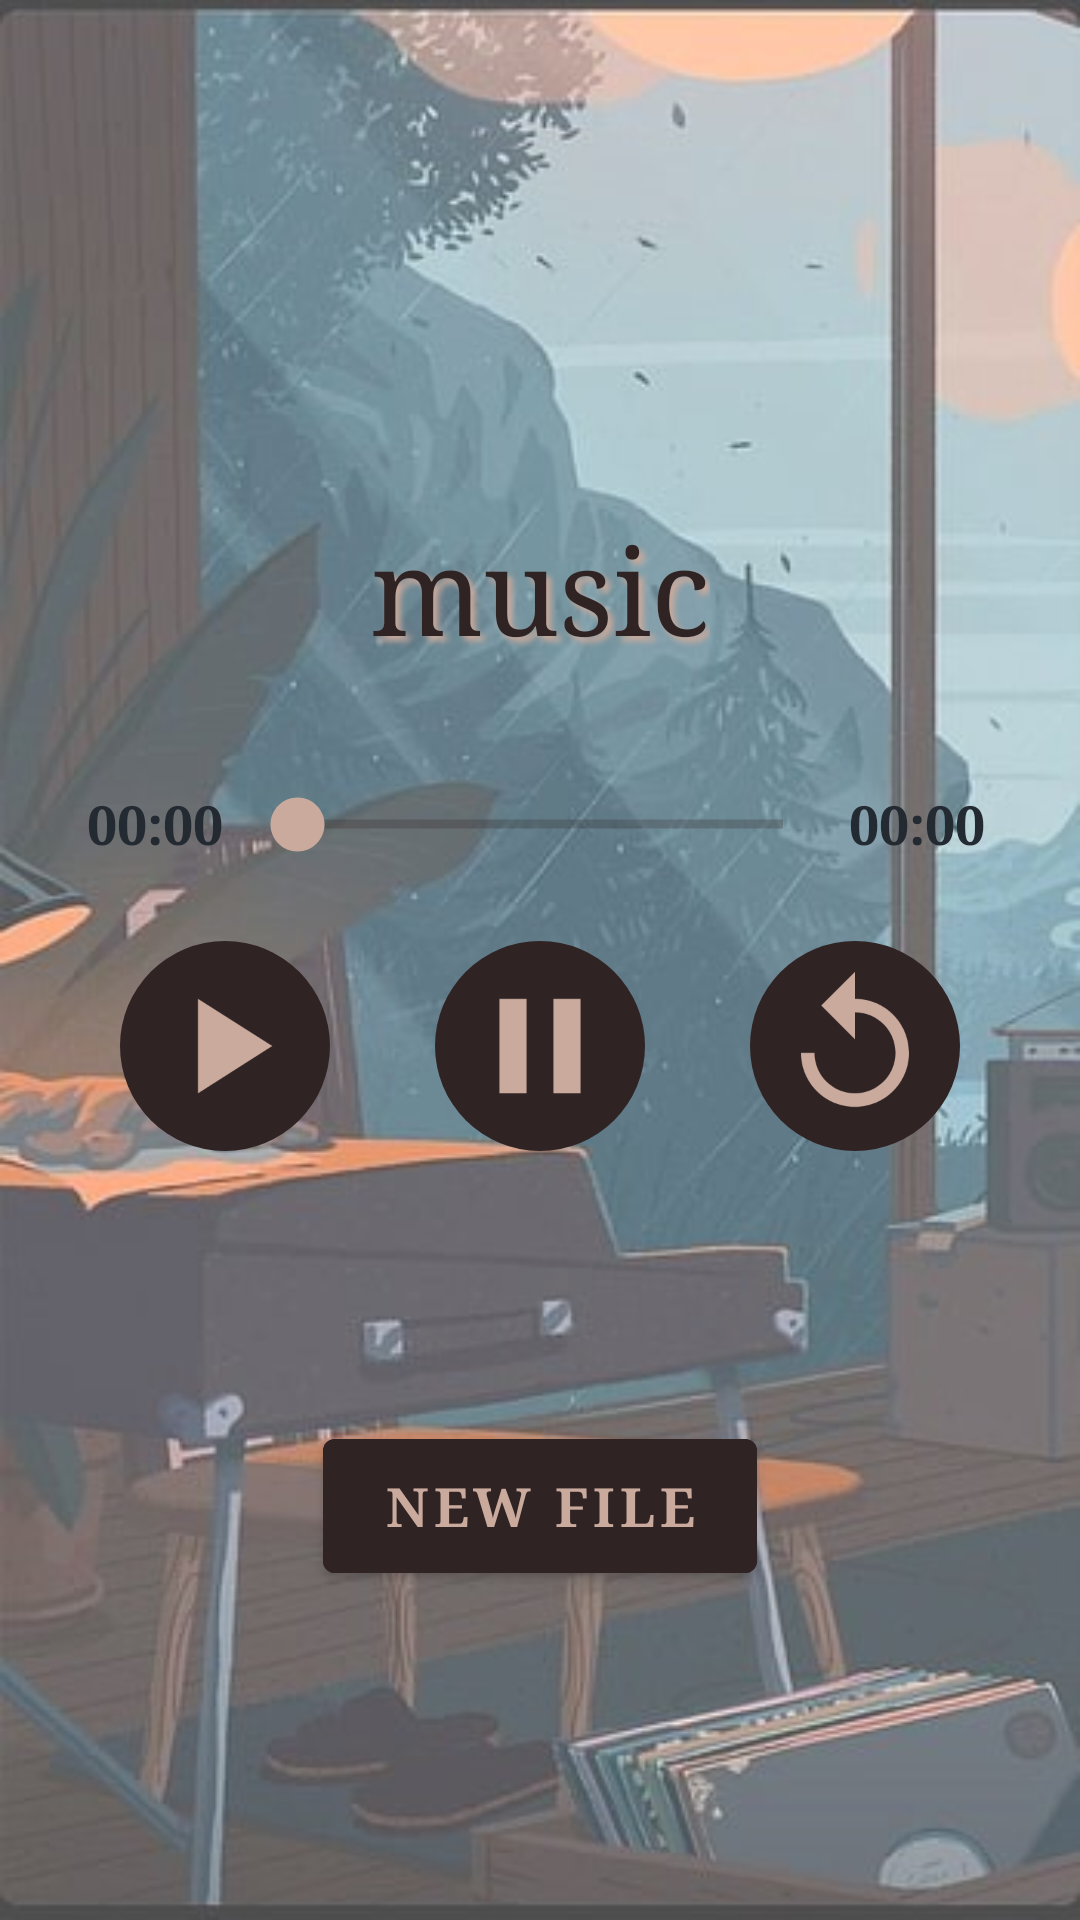

Point at icon controls on the screen. Image size 1080w x 1920h, points as [x,y].
pause: [540,1046]
play: [225,1046]
